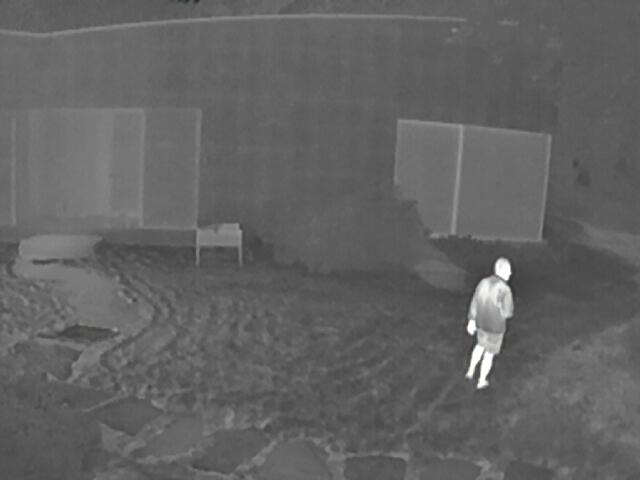person: (464, 258, 514, 388)
